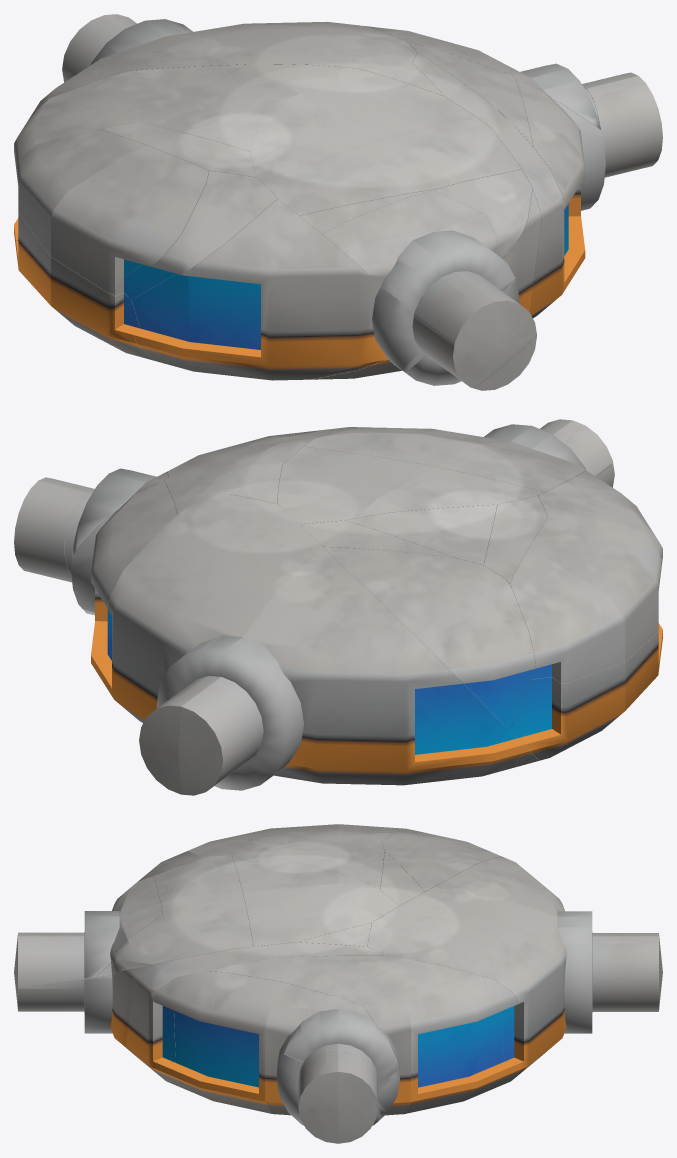
File: Broke_Pod_3.fbx
3 renders of one model, top to bottom at view 1: azimuth 30°, elevation 25°; view 2: azimuth 150°, elevation 25°; view 3: azimuth 270°, elevation 25°, orthographic. The views are drawn at different scales.
Parts seen in each view (by area): view 1: Pod_18, Pod_21, Pod_30, Pod_11, Pod_27, Pod_28, Pod_26, Pod_16, Pod_15, Pod_23, Pod_19, Pod_13 (+10 smaller); view 2: Pod_11, Pod_21, Pod_26, Pod_27, Pod_19, Pod_10, Pod_28, Pod_13, Pod_22, Pod_30, Pod_25, Pod_9 (+7 smaller); view 3: Pod_11, Pod_10, Pod_16, Pod_27, Pod_30, Pod_28, Pod_15, Pod_13, Pod_9, Pod_8, Pod_14, Pod_26 (+9 smaller).
Boxes of the visible parts, left/top/right/bottom form: Pod_18: left=131, top=198, right=486, bottom=388; Pod_21: left=16, top=130, right=208, bottom=293; Pod_30: left=322, top=190, right=536, bottom=378; Pod_11: left=14, top=14, right=417, bottom=249; Pod_27: left=250, top=64, right=475, bottom=182; Pod_28: left=262, top=117, right=521, bottom=215; Pod_26: left=14, top=64, right=247, bottom=171; Pod_16: left=516, top=79, right=605, bottom=288; Pod_15: left=412, top=52, right=565, bottom=318; Pod_23: left=113, top=171, right=277, bottom=299; Pod_19: left=16, top=211, right=154, bottom=360; Pod_13: left=582, top=72, right=662, bottom=177; Pod_11: left=109, top=494, right=538, bottom=795; Pod_21: left=510, top=514, right=661, bottom=683; Pod_26: left=323, top=547, right=535, bottom=729; Pod_27: left=277, top=446, right=543, bottom=524; Pod_19: left=509, top=631, right=659, bottom=760; Pod_10: left=71, top=481, right=177, bottom=694; Pod_28: left=304, top=429, right=570, bottom=492; Pod_13: left=14, top=477, right=94, bottom=582; Pod_22: left=345, top=504, right=497, bottom=564; Pod_30: left=449, top=419, right=612, bottom=476; Pod_25: left=483, top=496, right=547, bottom=583; Pod_9: left=65, top=468, right=168, bottom=574; Pod_11: left=367, top=856, right=662, bottom=1086; Pod_10: left=339, top=960, right=522, bottom=1117; Pod_16: left=153, top=971, right=381, bottom=1125; Pod_27: left=232, top=855, right=398, bottom=946; Pod_30: left=14, top=876, right=162, bottom=990; Pod_28: left=164, top=855, right=253, bottom=959; Pod_15: left=125, top=942, right=498, bottom=1090; Pod_13: left=298, top=1051, right=377, bottom=1143; Pod_9: left=284, top=995, right=398, bottom=1087; Pod_8: left=16, top=965, right=151, bottom=1062; Pod_14: left=208, top=956, right=414, bottom=1115; Pod_26: left=381, top=833, right=500, bottom=891.
Bounding box in the file's own units: 61.89 × 17.7 × 71.79.
Materials: 1 (1 with a texture image).
